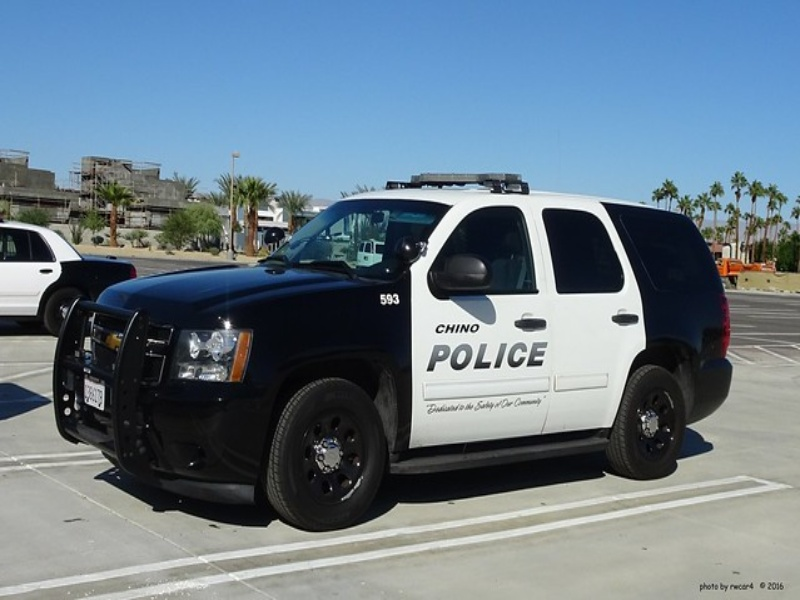policecar: (122, 172, 745, 506)
